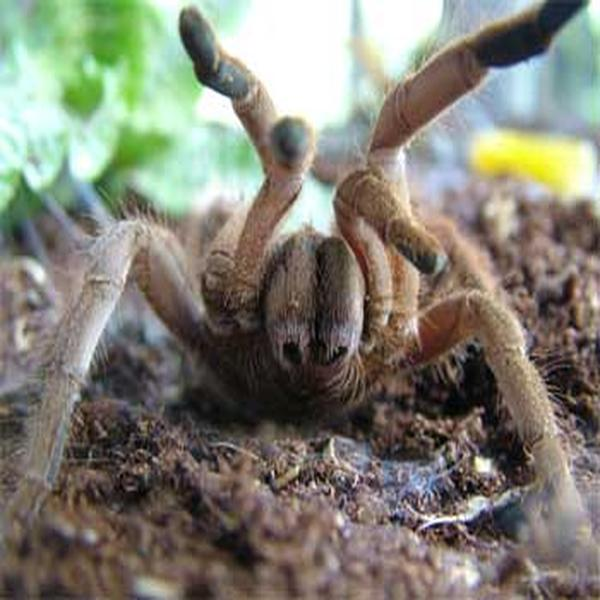Tarantula Spider: (33, 9, 589, 534)
